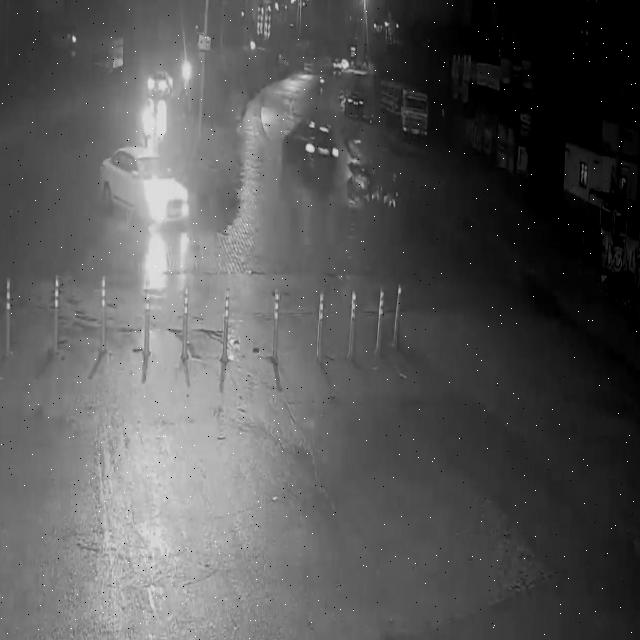accident: (339, 152, 401, 214)
